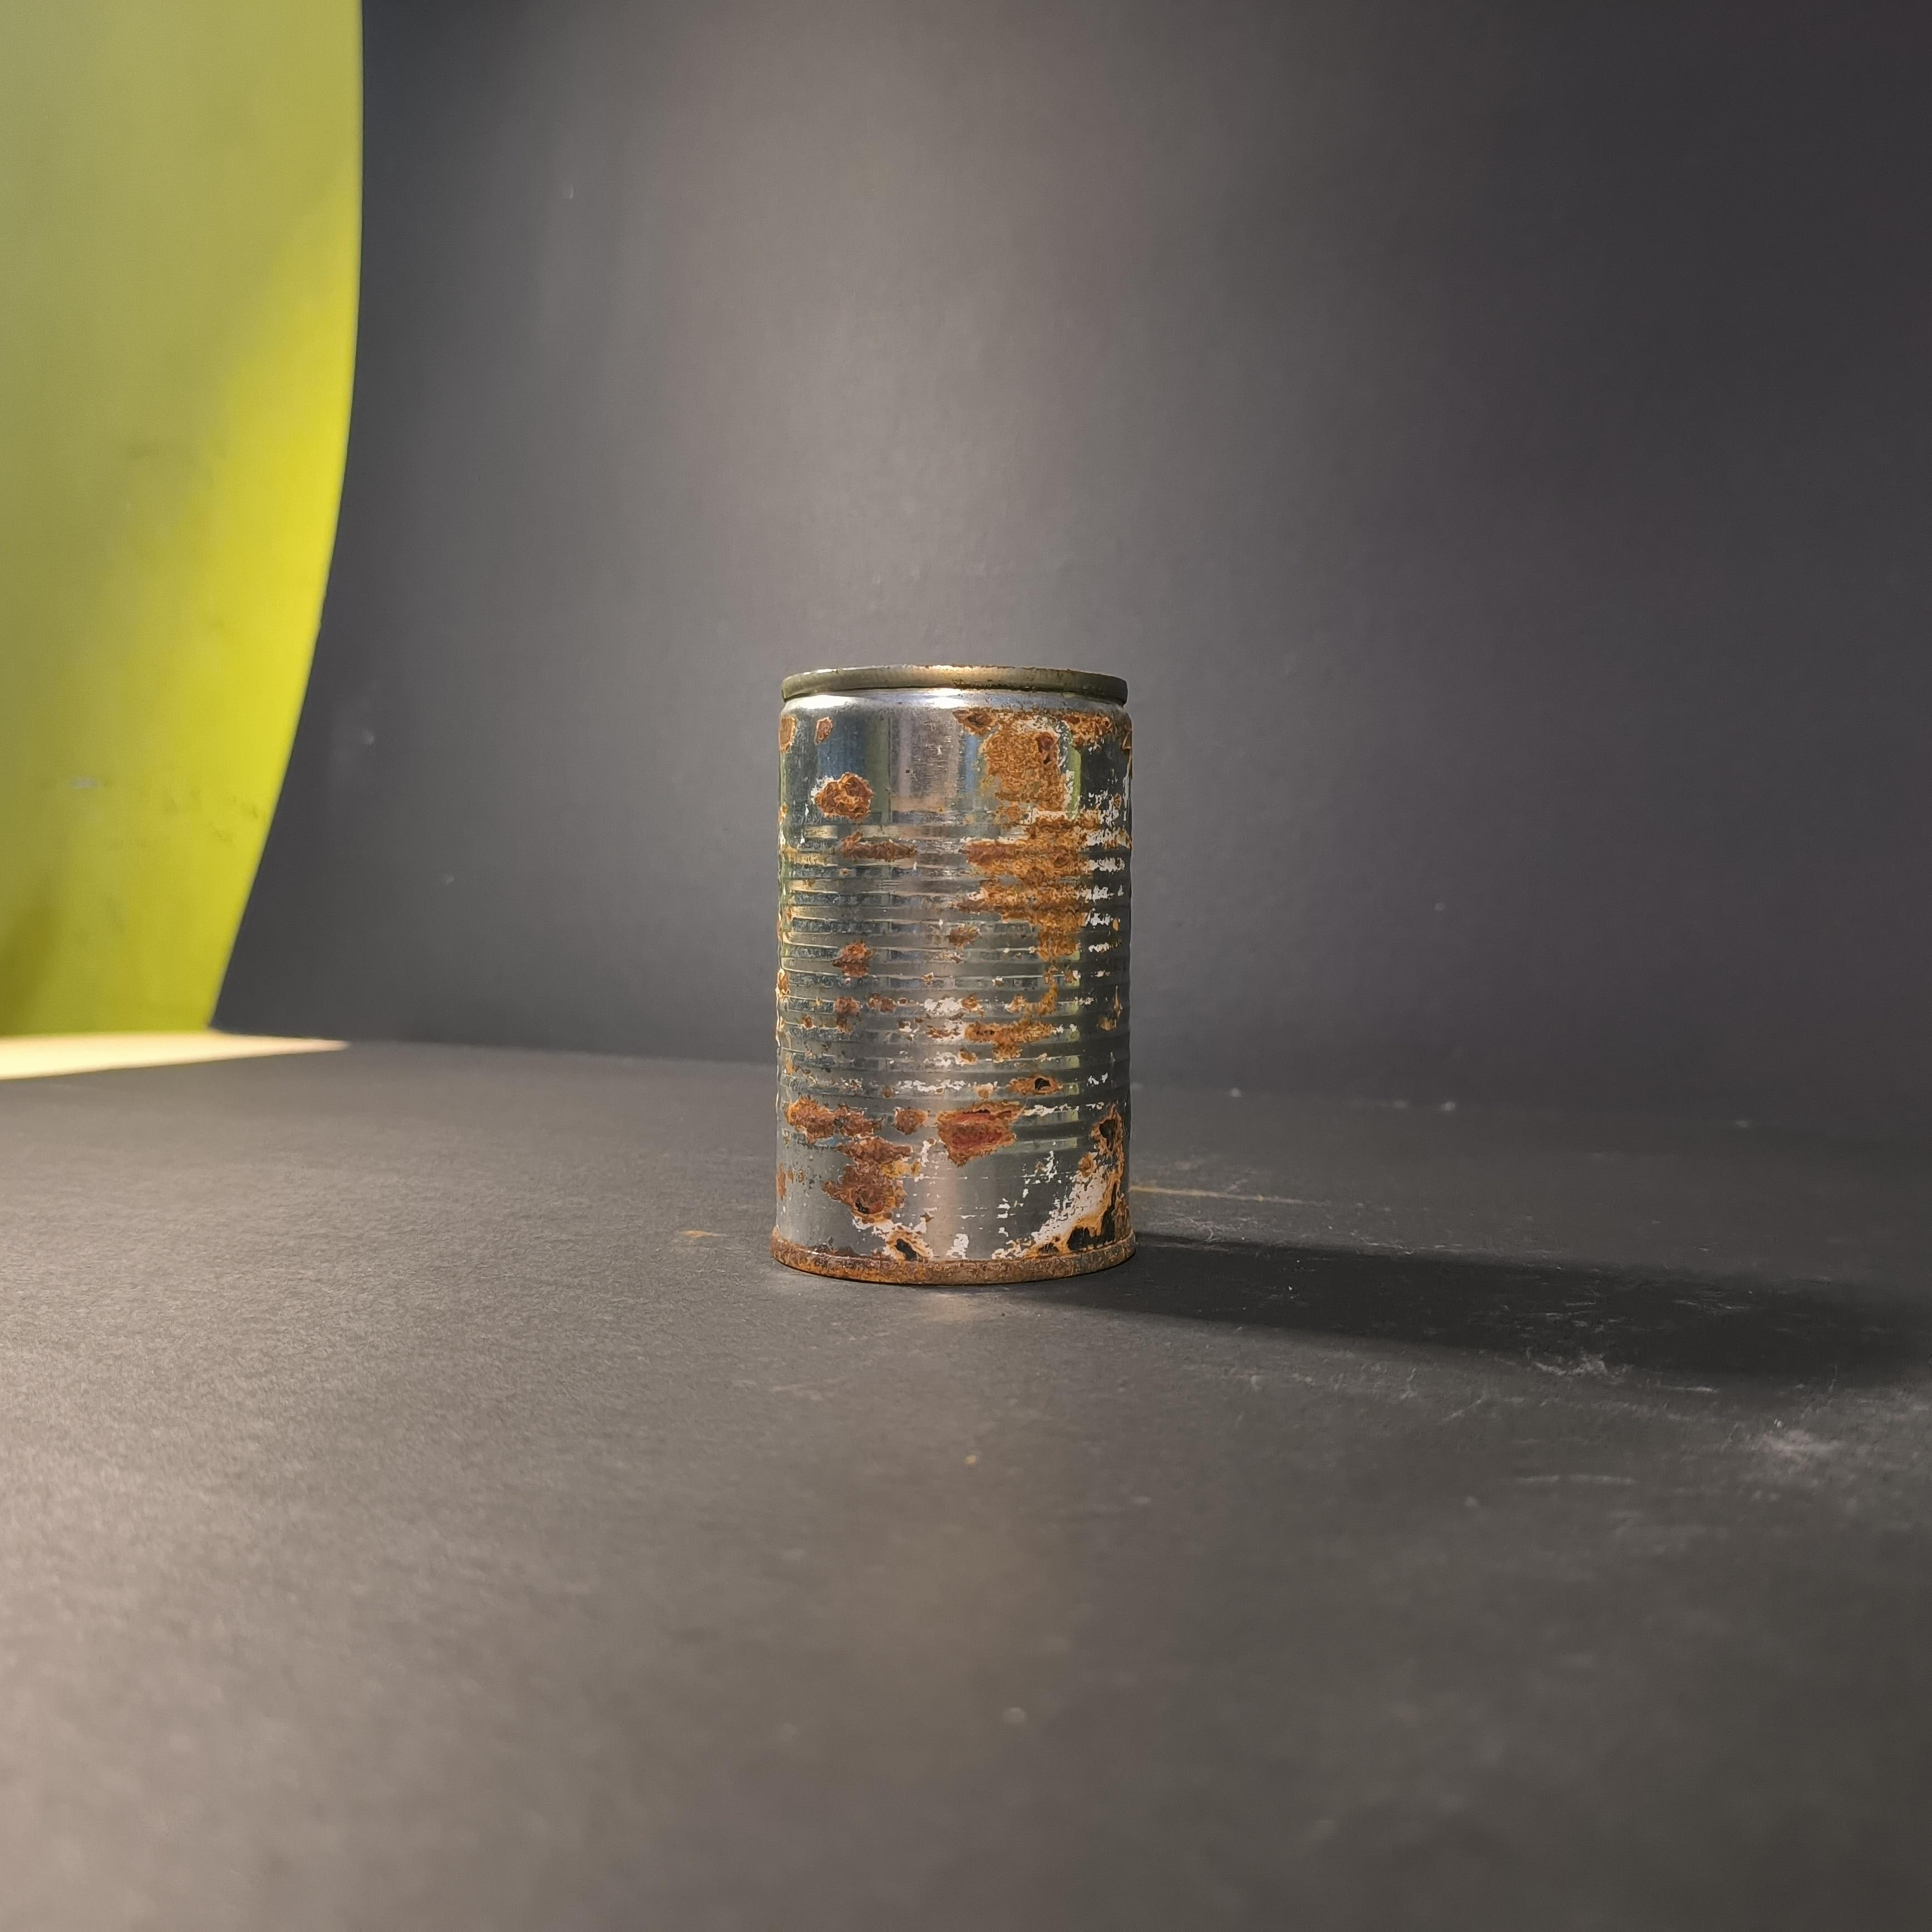Rusted: (768, 623, 1143, 1293)
